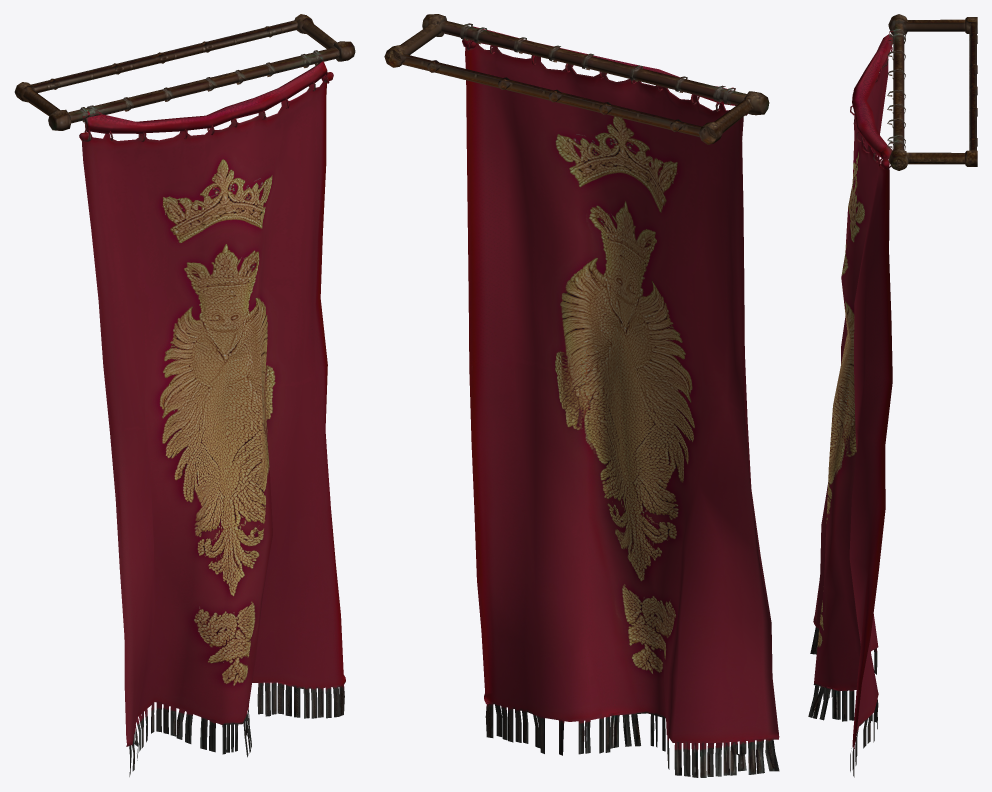
Rendered from arazzo.glb.
The picture shows the model from 3 angles, left to right: view 1: azimuth 30°, elevation 25°; view 2: azimuth 150°, elevation 25°; view 3: azimuth 270°, elevation 25°; orthographic projection. The views are drawn at different scales.
Visible parts, largest first — view 1: arazzo; view 2: arazzo; view 3: arazzo.
Boxes of the visible parts, x1,y1,x2,y2 form: arazzo: [14, 14, 355, 776]; arazzo: [384, 14, 779, 777]; arazzo: [808, 14, 977, 777].
Bounding box in the file's own units: 0.4829 × 0.9995 × 0.2407.
1 material, 1 textured.
